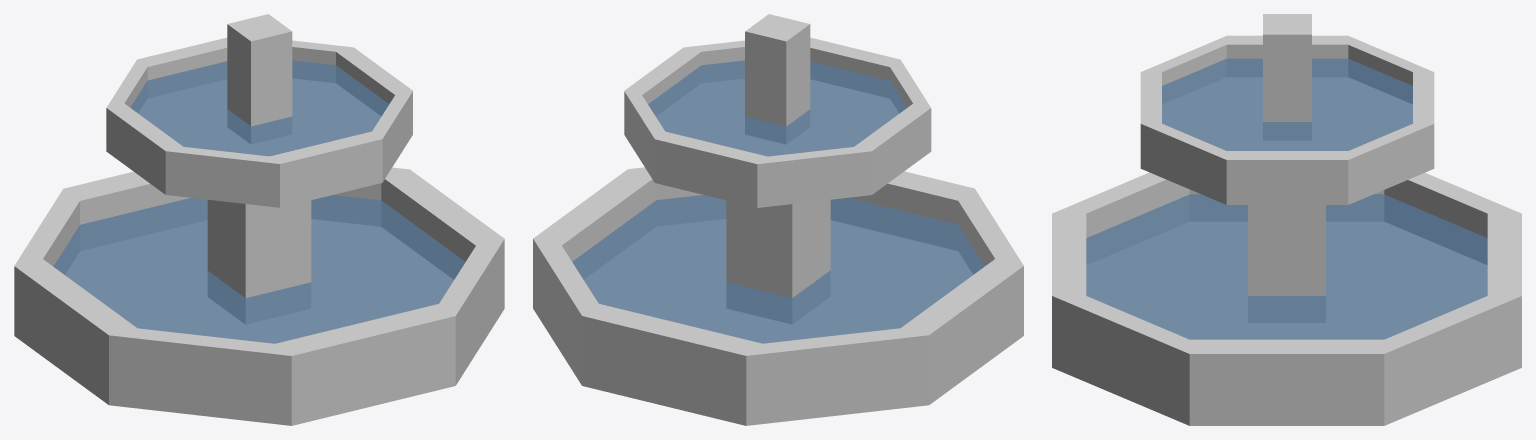
The model's file is Fountain.fbx.
3 views of the same model, side by side, from view 1: azimuth 30°, elevation 25°; view 2: azimuth 150°, elevation 25°; view 3: azimuth 270°, elevation 25° (orthographic). The views are drawn at different scales.
Visible parts, largest first — view 1: Fountain, Water2; view 2: Fountain, Water2; view 3: Fountain, Water2.
Boxes of the visible parts, <box> form: Fountain: <box>14,14,504,425</box>; Water2: <box>53,60,465,343</box>; Fountain: <box>533,14,1023,425</box>; Water2: <box>572,60,984,343</box>; Fountain: <box>1052,14,1521,425</box>; Water2: <box>1086,58,1487,339</box>.
Bounding box in the file's own units: 7.91 × 5.62 × 7.91.
